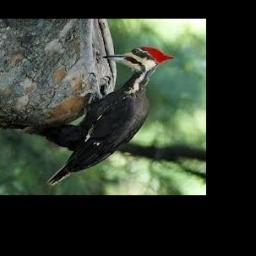Woodpecker: (46, 47, 175, 184)
